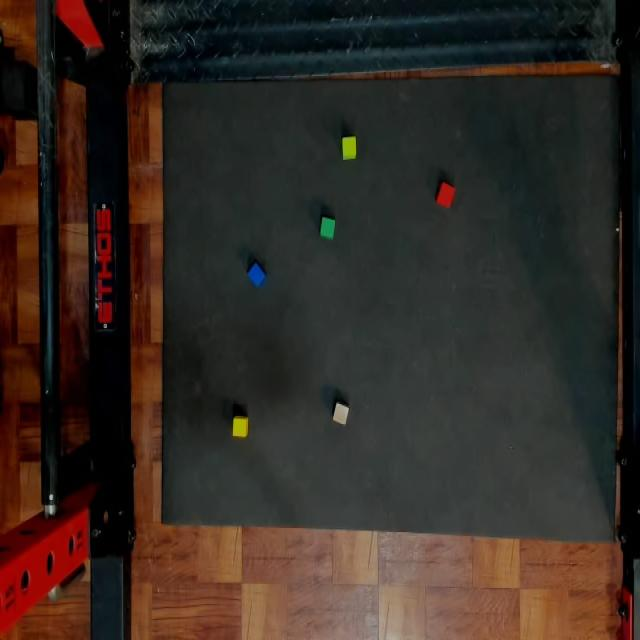block: (248, 261, 266, 285), (435, 184, 455, 205), (320, 217, 335, 239), (333, 400, 347, 423), (343, 136, 356, 159), (233, 417, 248, 436)
